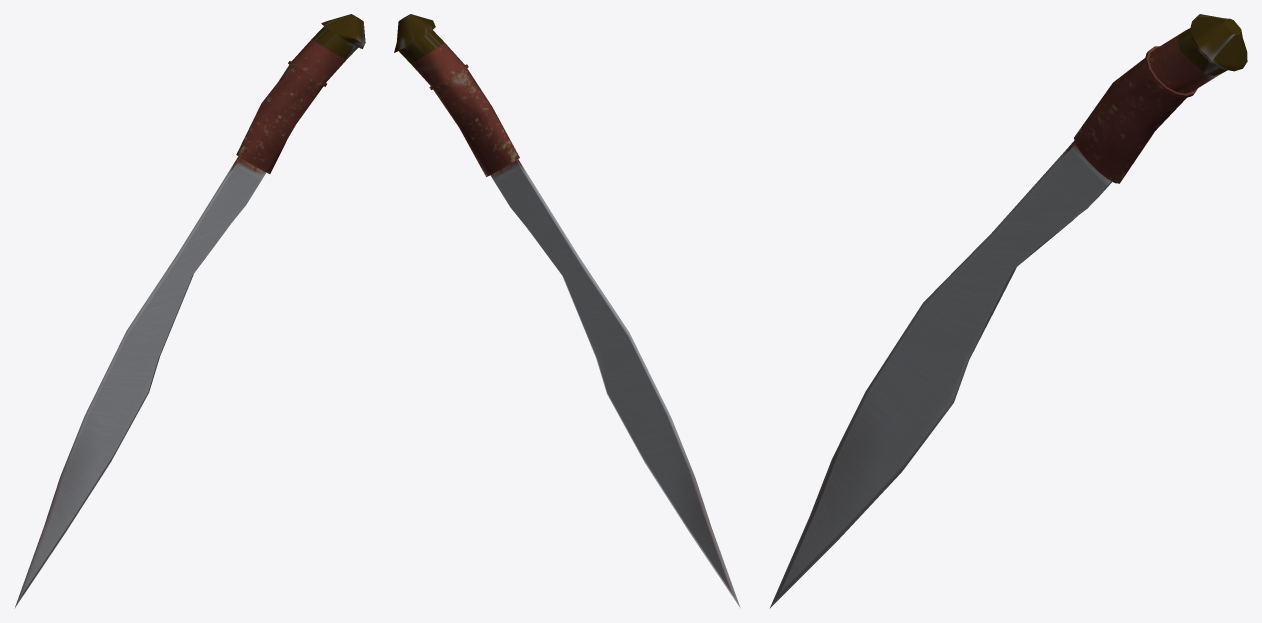
Rendered from kukri blade.fbx.
3 renders of one model, left to right at view 1: azimuth 30°, elevation 25°; view 2: azimuth 150°, elevation 25°; view 3: azimuth 330°, elevation 25°, orthographic. The views are drawn at different scales.
Parts seen in each view (by area): view 1: kukri_blade; view 2: kukri_blade; view 3: kukri_blade.
Boxes of the visible parts, <box> form: kukri_blade: <box>14,14,365,608</box>; kukri_blade: <box>394,14,740,608</box>; kukri_blade: <box>769,14,1247,608</box>.
Size of the model in its own units: 7.02 by 9.89 by 0.9152.
1 material, 1 textured.
